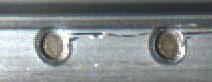joints: (32, 25, 73, 64), (147, 27, 186, 63)
